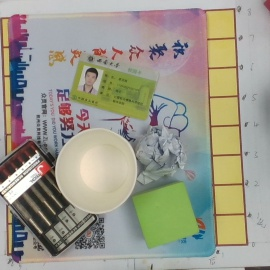card: (70, 52, 159, 120)
cup: (52, 127, 136, 215)
